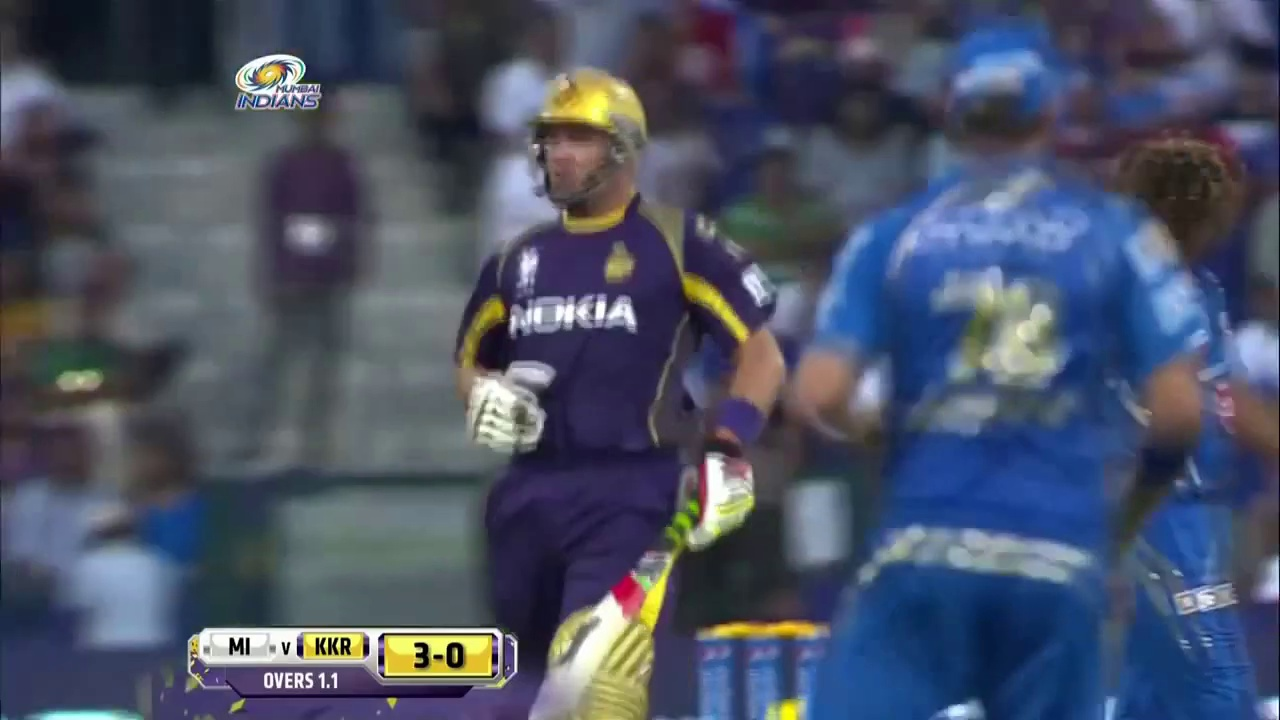bat: (522, 500, 709, 719)
scoreboard: (188, 627, 520, 698)
